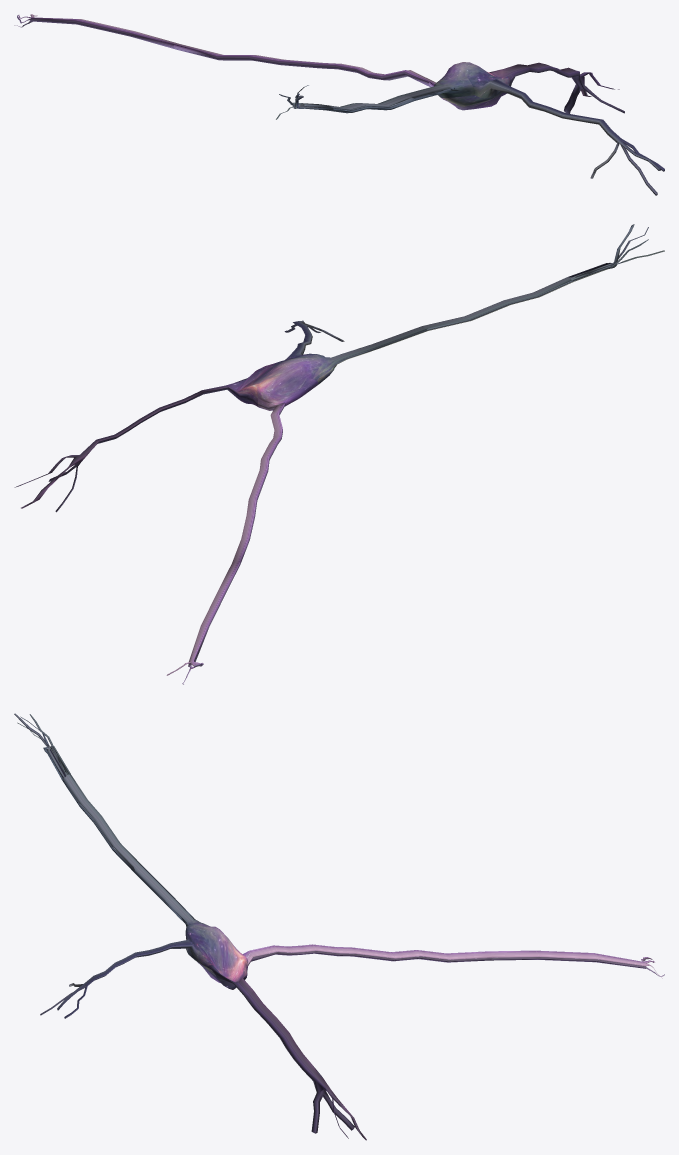
Rendered from lastneuron12.fbx.
3 views of the same model, one above another, from view 1: azimuth 30°, elevation 25°; view 2: azimuth 150°, elevation 25°; view 3: azimuth 270°, elevation 25° (orthographic). The views are drawn at different scales.
Visible parts, largest first — view 1: DONE3.001 ex; view 2: DONE3.001 ex; view 3: DONE3.001 ex.
Part boxes in pixels (left/top/right/bottom): DONE3.001 ex: left=14, top=14, right=664, bottom=195; DONE3.001 ex: left=14, top=224, right=664, bottom=684; DONE3.001 ex: left=14, top=713, right=664, bottom=1140.
Size of the model in its own units: 47593 by 24467 by 61573.
